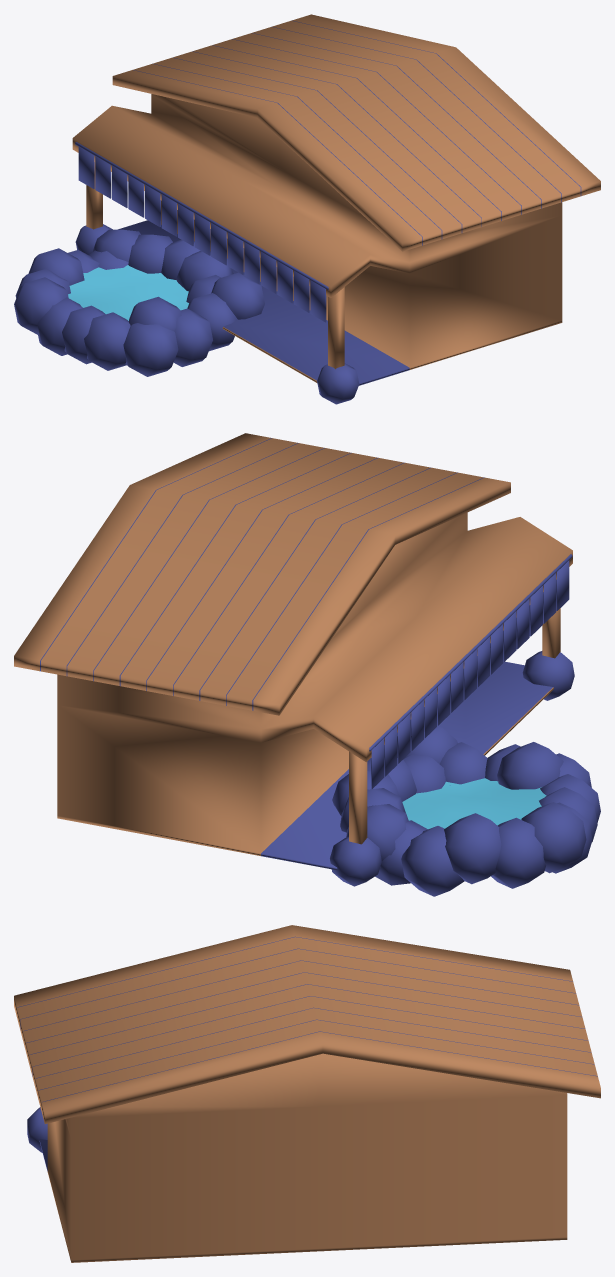
The picture shows the model from 3 angles, top to bottom: view 1: azimuth 30°, elevation 25°; view 2: azimuth 150°, elevation 25°; view 3: azimuth 270°, elevation 25°; orthographic projection. The views are drawn at different scales.
Visible parts, largest first — view 1: 立方体003_2, 立方体003, 立方体003_5, 立方体003_7, 立方体003_1, 立方体003_3, 立方体003_4, 立方体003_6; view 2: 立方体003_2, 立方体003, 立方体003_5, 立方体003_1, 立方体003_7, 立方体003_3, 立方体003_4, 立方体003_6; view 3: 立方体003, 立方体003_2, 立方体003_3, 立方体003_5.
Boxes of the visible parts, left/top/right/bottom form: 立方体003_2: left=72, top=14, right=600, bottom=297; 立方体003: left=151, top=94, right=562, bottom=382; 立方体003_5: left=14, top=224, right=359, bottom=404; 立方体003_7: left=78, top=147, right=326, bottom=322; 立方体003_1: left=118, top=220, right=409, bottom=385; 立方体003_3: left=75, top=20, right=581, bottom=290; 立方体003_4: left=68, top=265, right=188, bottom=320; 立方体003_6: left=86, top=162, right=344, bottom=369; 立方体003_2: left=14, top=433, right=572, bottom=762; 立方体003: left=57, top=512, right=553, bottom=855; 立方体003_5: left=330, top=651, right=600, bottom=896; 立方体003_1: left=261, top=661, right=552, bottom=870; 立方体003_7: left=371, top=560, right=569, bottom=789; 立方体003_3: left=40, top=438, right=572, bottom=751; 立方体003_4: left=402, top=778, right=546, bottom=829; 立方体003_6: left=349, top=608, right=560, bottom=844; 立方体003: left=47, top=1053, right=567, bottom=1262; 立方体003_2: left=14, top=925, right=600, bottom=1123; 立方体003_3: left=17, top=936, right=597, bottom=1102; 立方体003_5: left=27, top=1107, right=47, bottom=1152.
Size of the model in its own units: 9.66 by 4.83 by 9.91.
